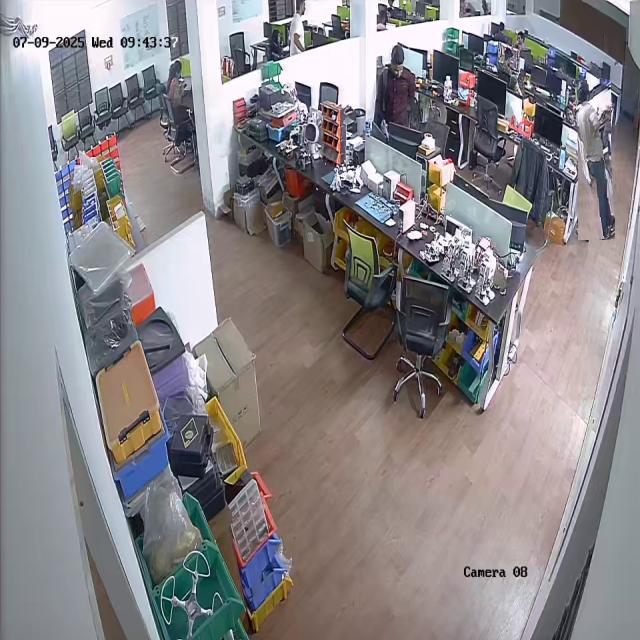person: (576, 80, 613, 240)
